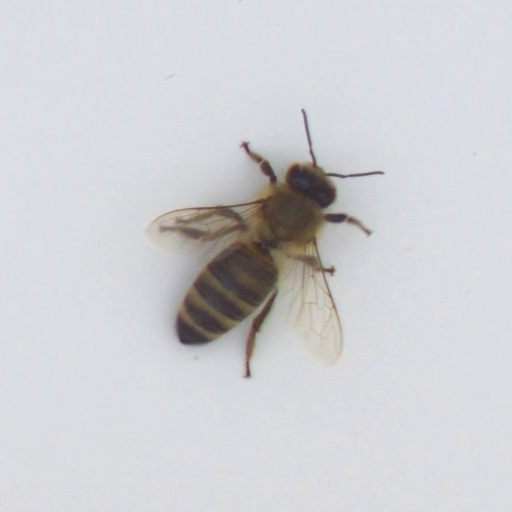Bee: (153, 149, 350, 365)
Thorax: (254, 182, 321, 241)
